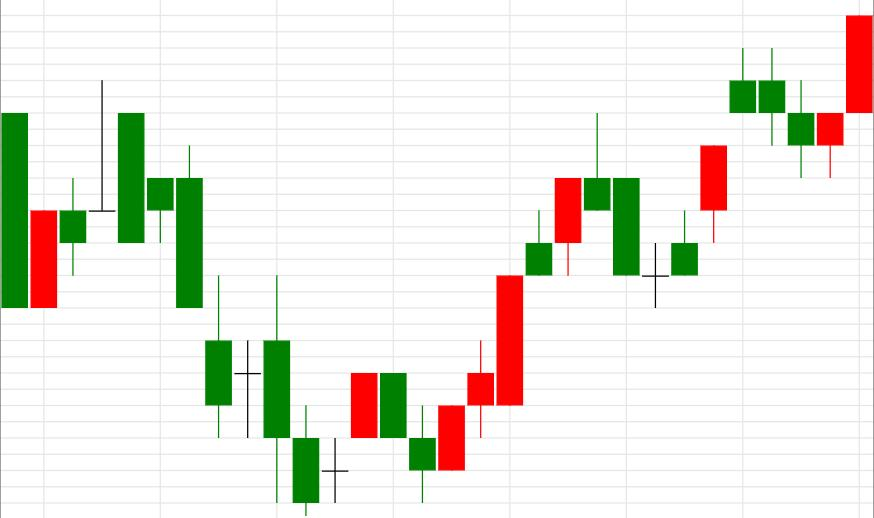shooting_star_fall: (438, 112, 611, 471)
